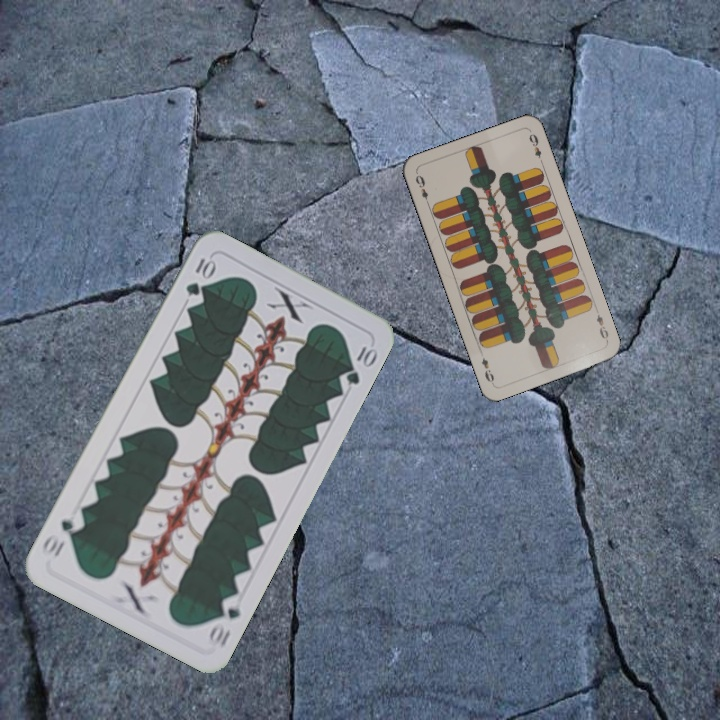E9: (591, 305, 611, 345), (411, 171, 432, 209)
G10: (203, 591, 245, 651), (181, 252, 218, 299)
